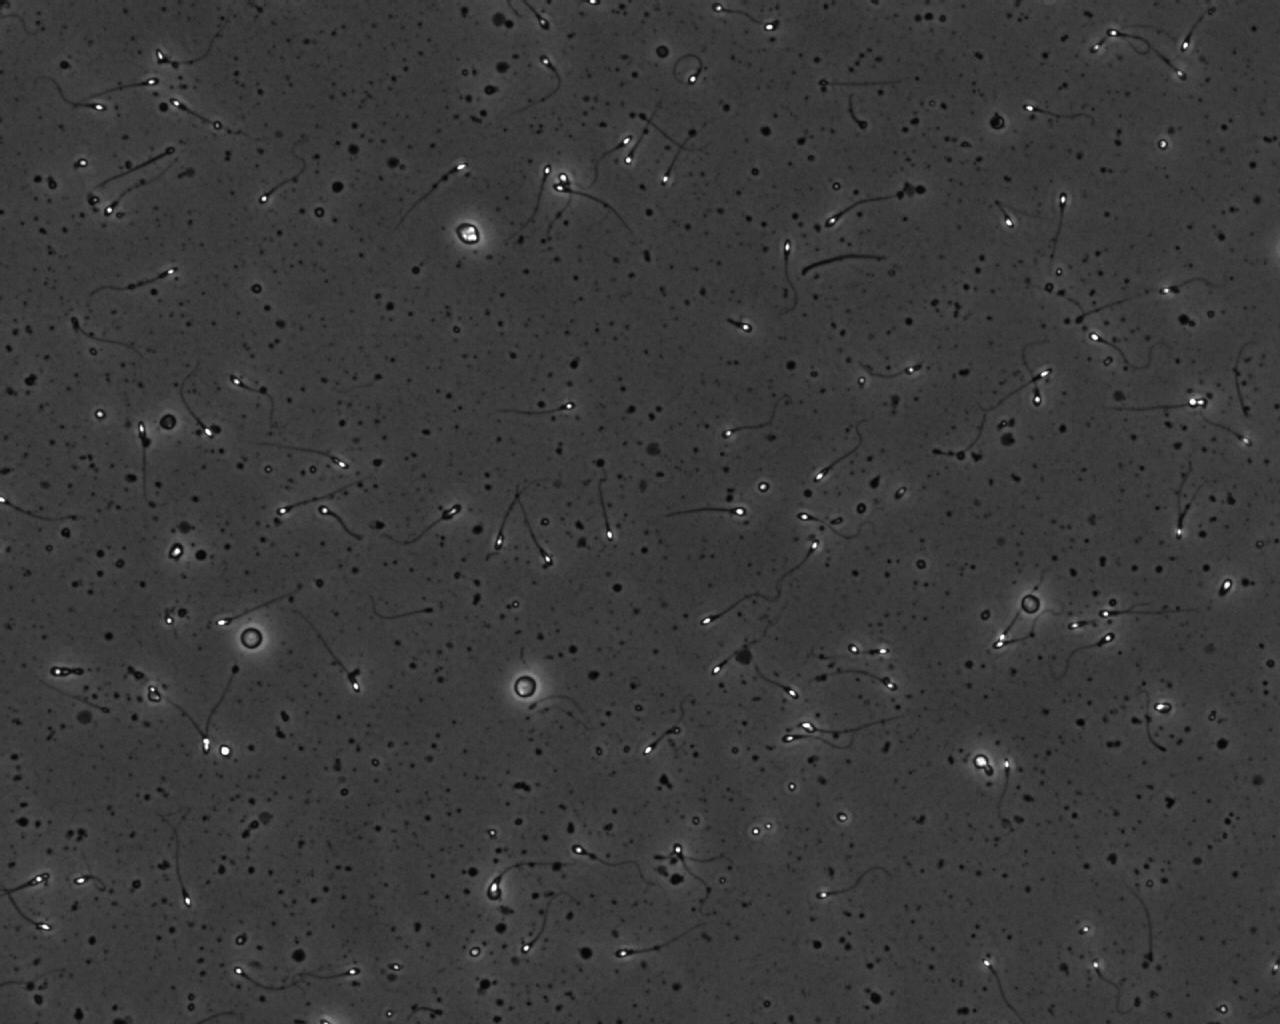cell: (236, 623, 267, 653), (510, 671, 540, 702), (453, 219, 483, 249), (1017, 590, 1044, 618), (157, 410, 180, 434)
